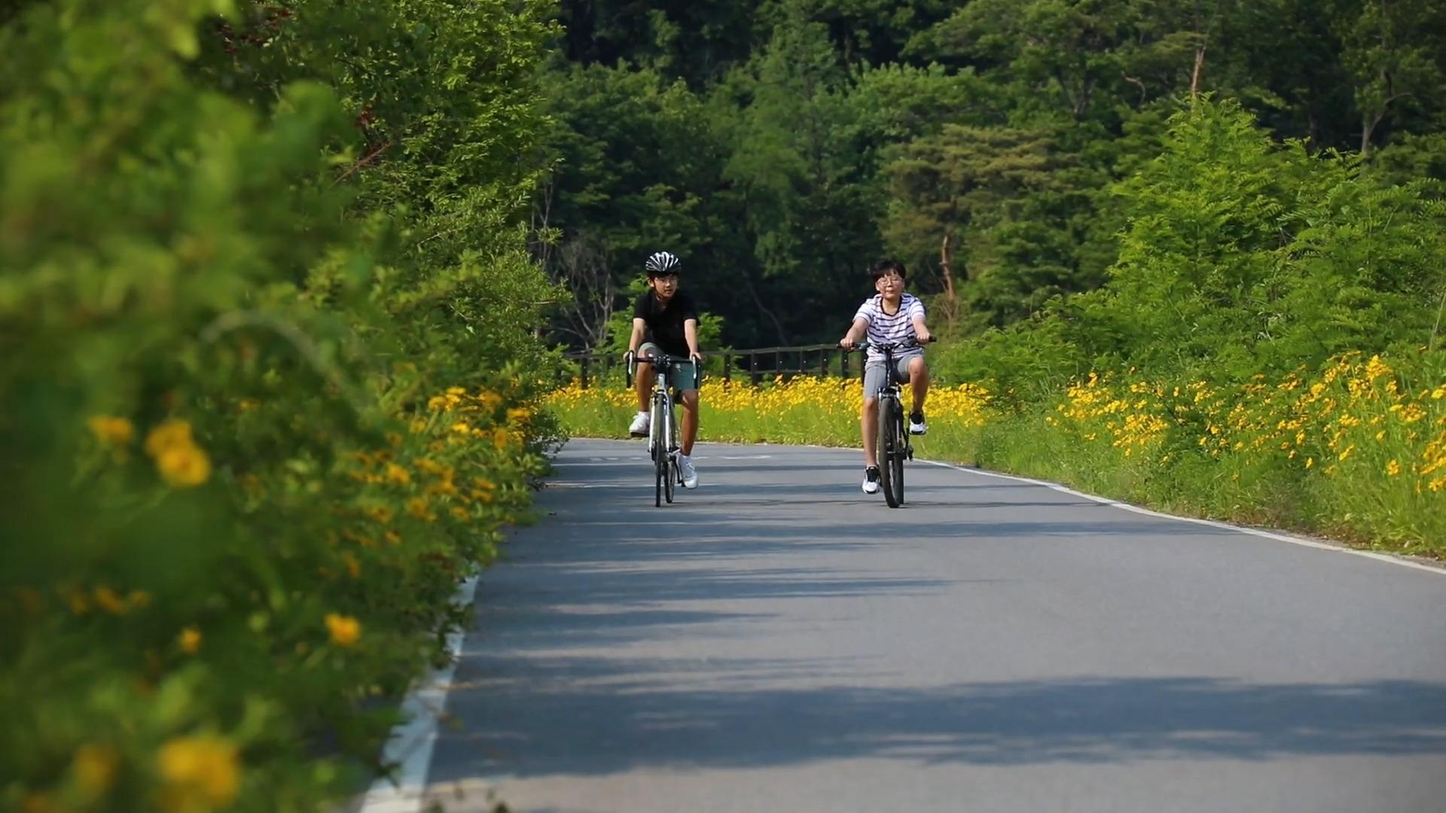bicyclist: (835, 258, 934, 509), (621, 249, 702, 508)
helmet: (645, 249, 681, 299)
no-helmet: (873, 259, 907, 301)
